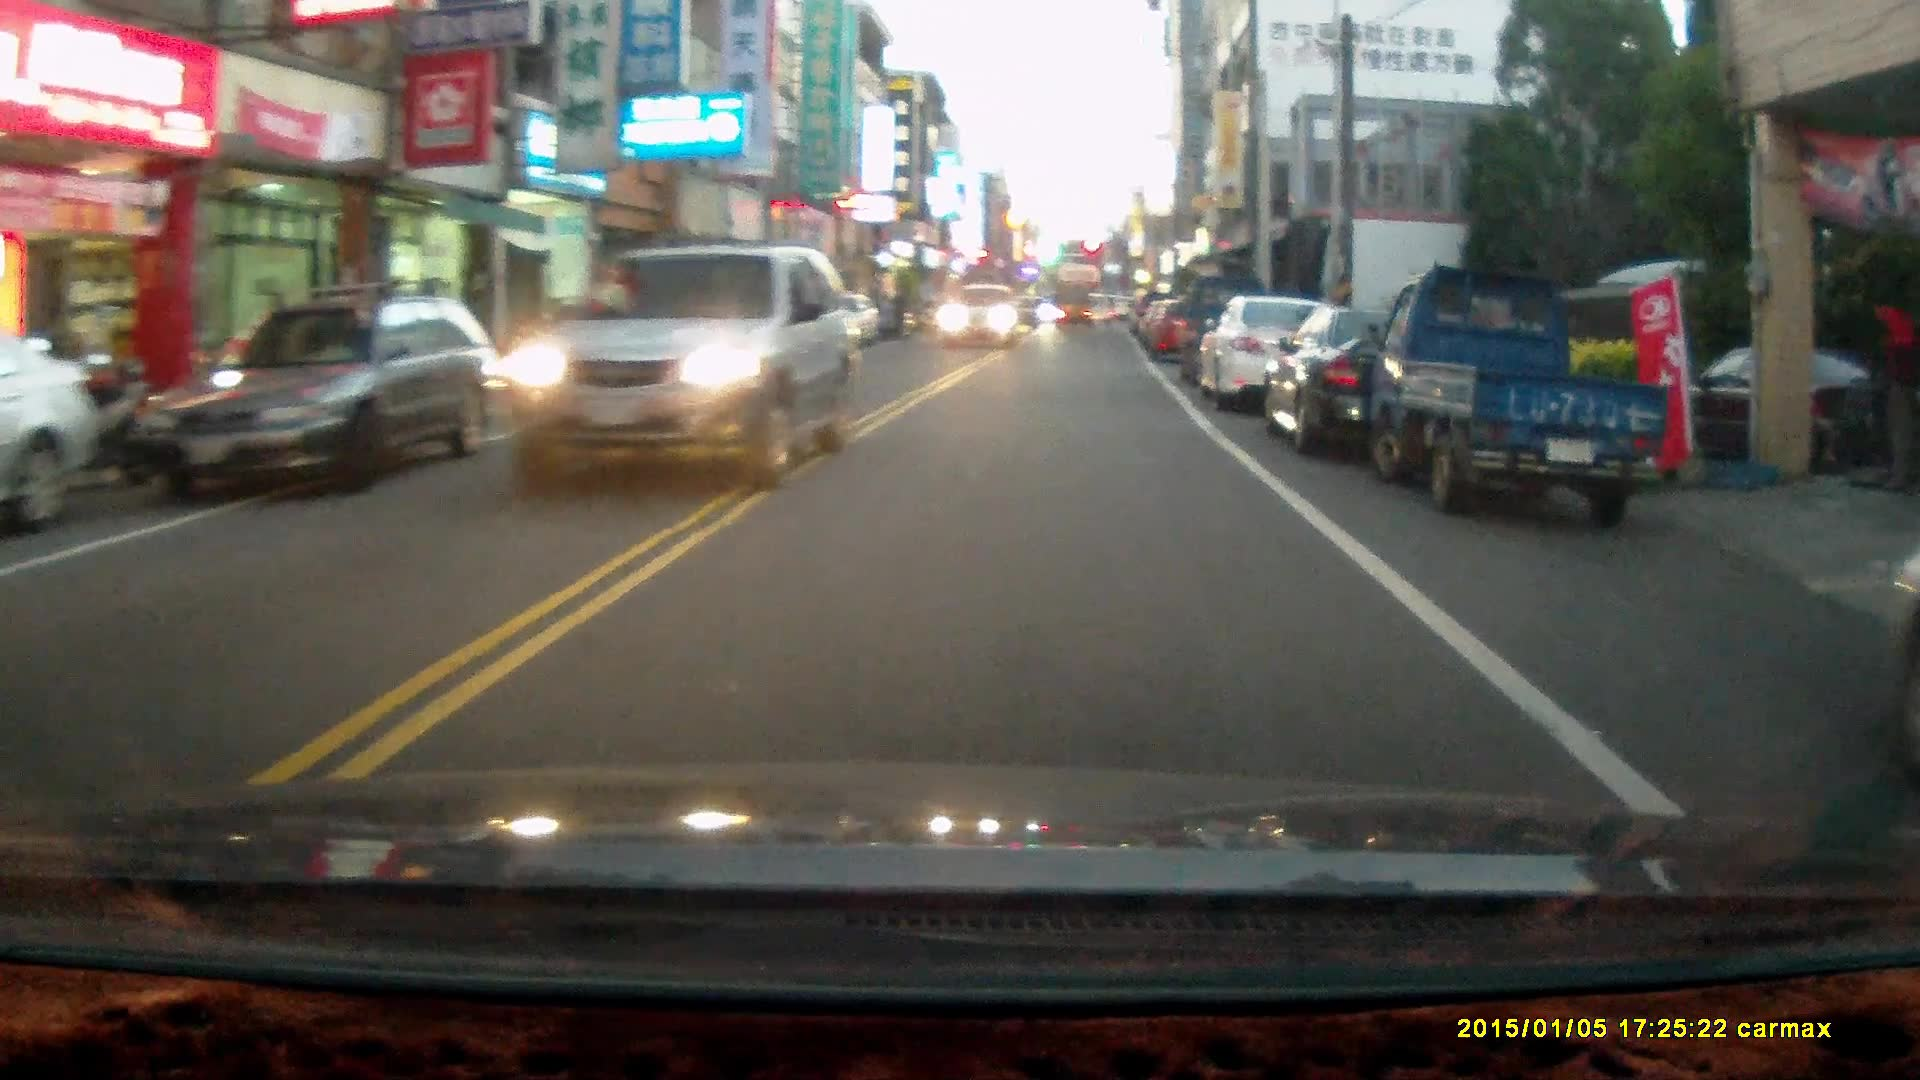pedestrian: (1860, 289, 1920, 493)
vehicle: (497, 239, 870, 491), (1366, 270, 1686, 536), (126, 284, 516, 500), (1268, 309, 1514, 460), (1191, 301, 1354, 414), (940, 286, 1022, 353), (1049, 286, 1093, 335)
